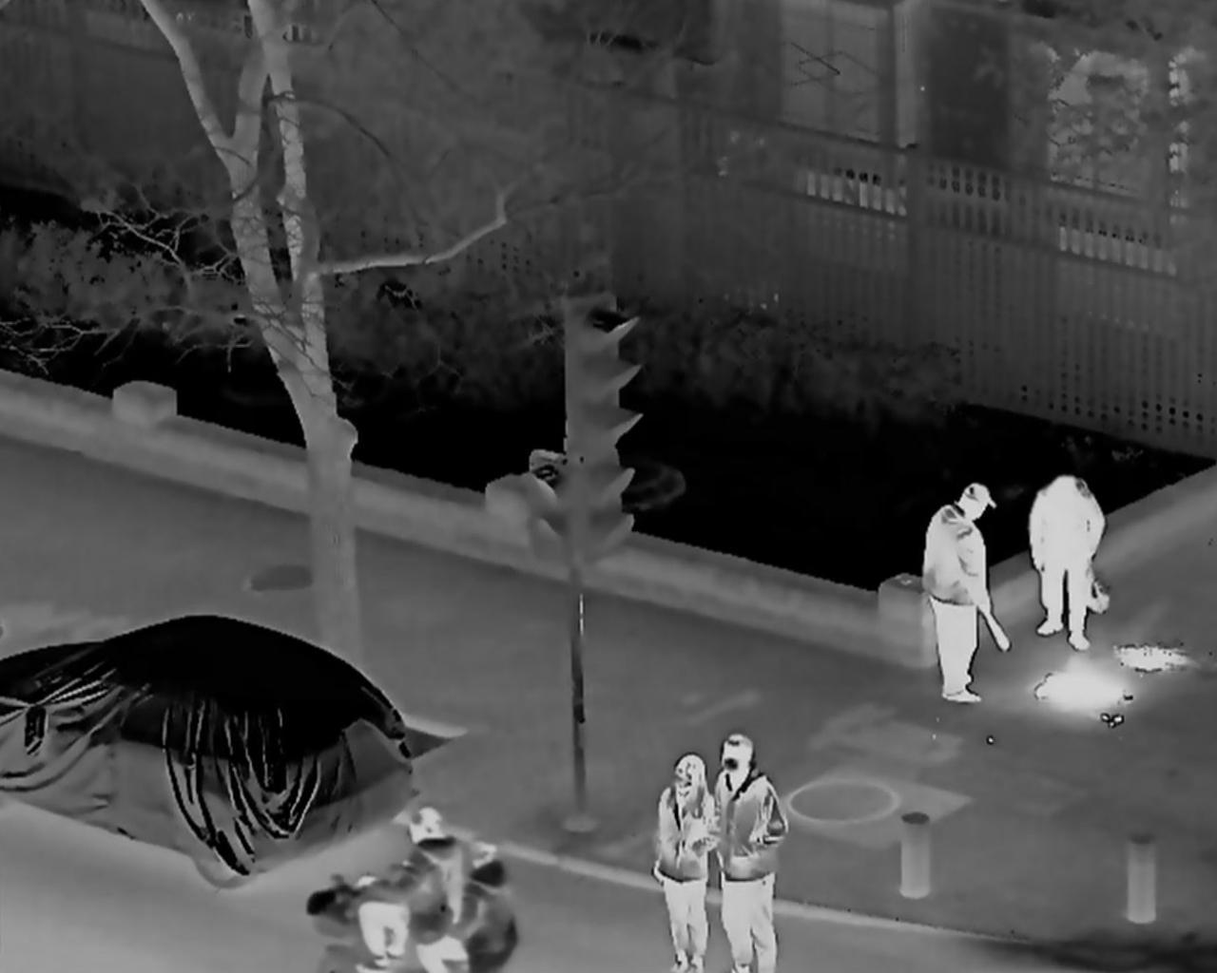person: (714, 735, 790, 973), (349, 808, 460, 959), (925, 483, 997, 699), (1023, 474, 1108, 653), (421, 842, 518, 973), (661, 746, 715, 973)
